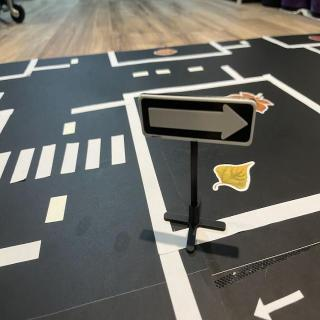road_crosswalk: (1, 130, 131, 192)
road_oneway: (250, 277, 312, 320)
sign_oneway_right: (141, 95, 261, 147)
